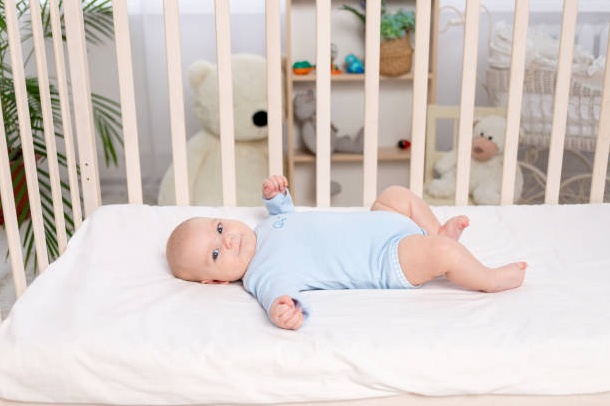baby: (166, 176, 526, 328)
crib: (0, 0, 609, 404)
